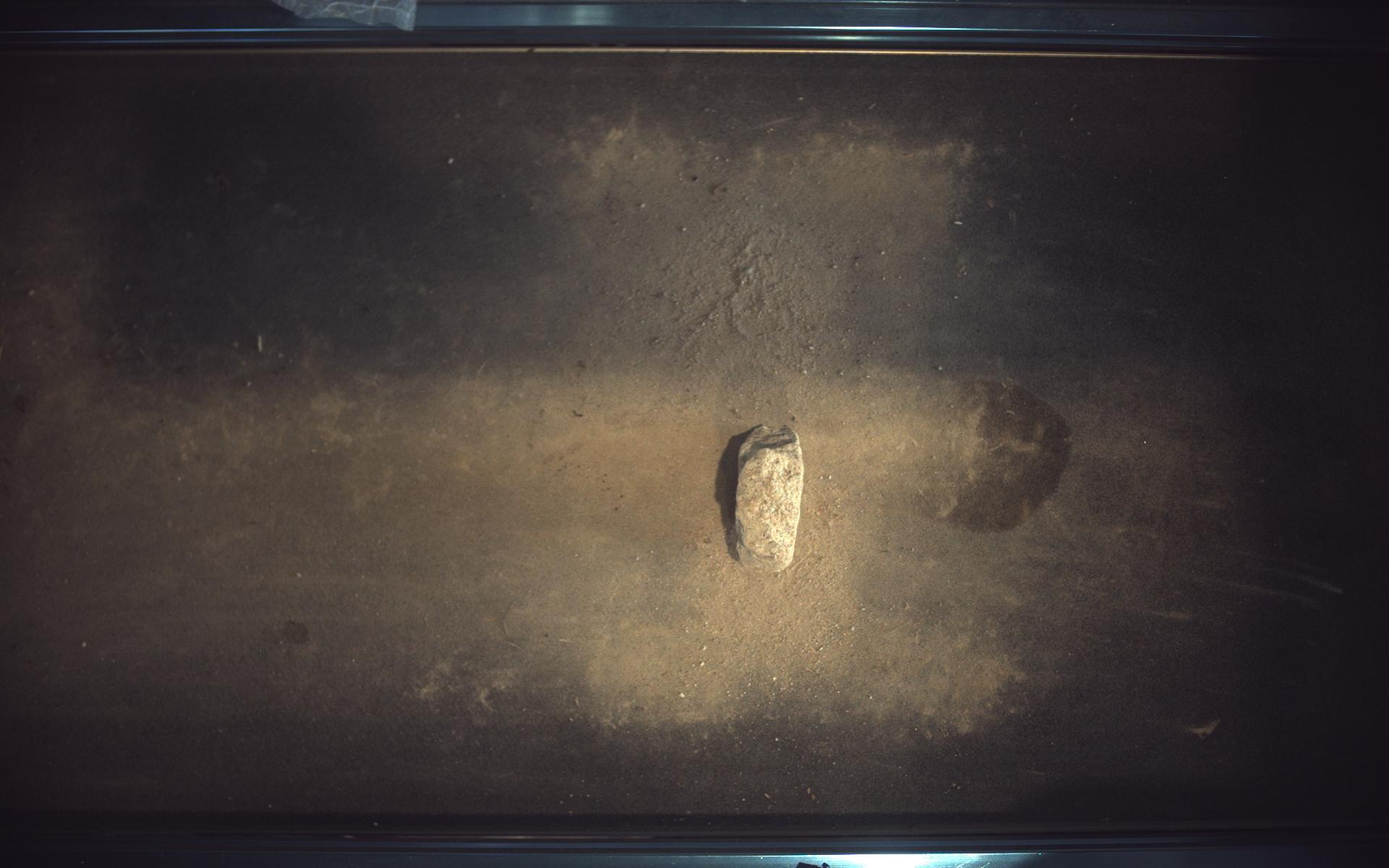stone: (737, 425, 805, 573)
